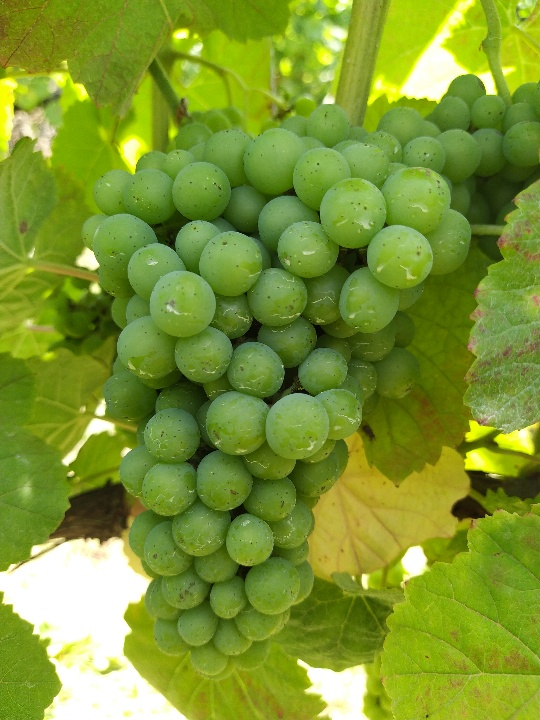grape: (76, 117, 475, 681)
